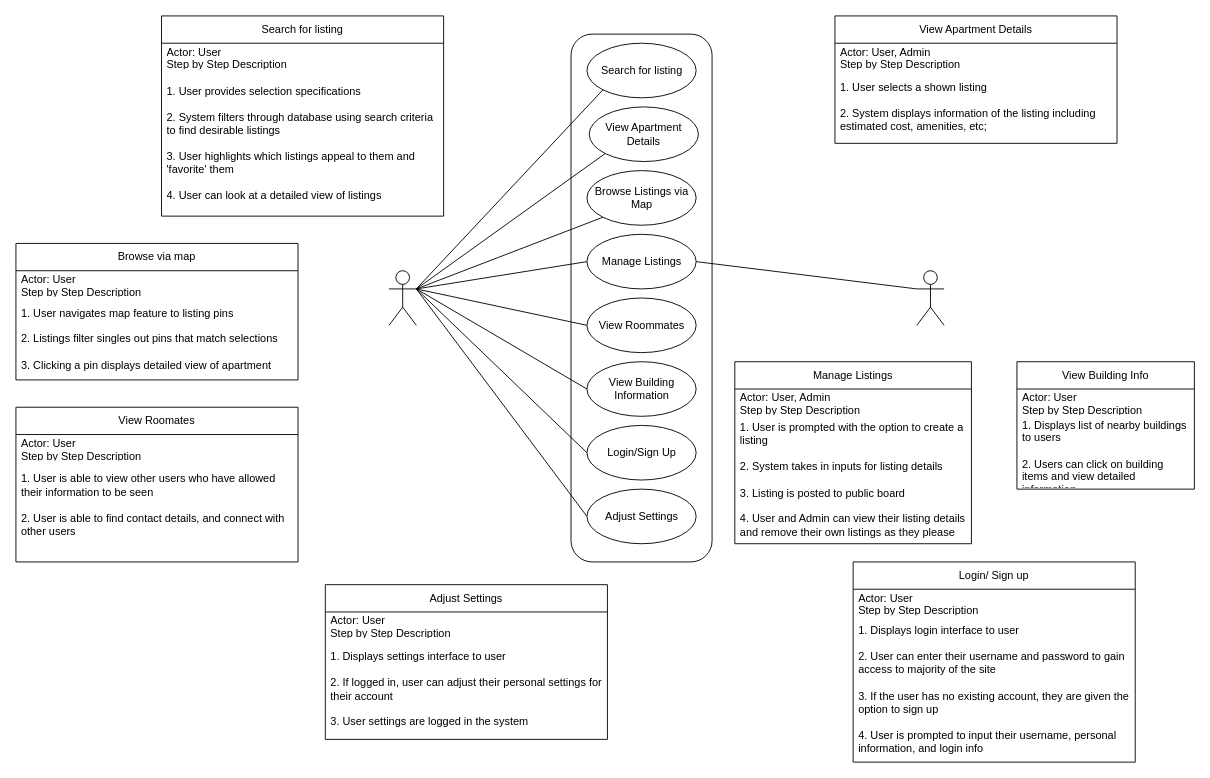
Some shapes in this 1210 by 778 pixel diagram are drawn without their labels. The shapes that lost their labels are listed below. From the top down, each one's centre as x and y in pixels, then its label:
(x=402, y=297): User
(x=930, y=297): Admin
